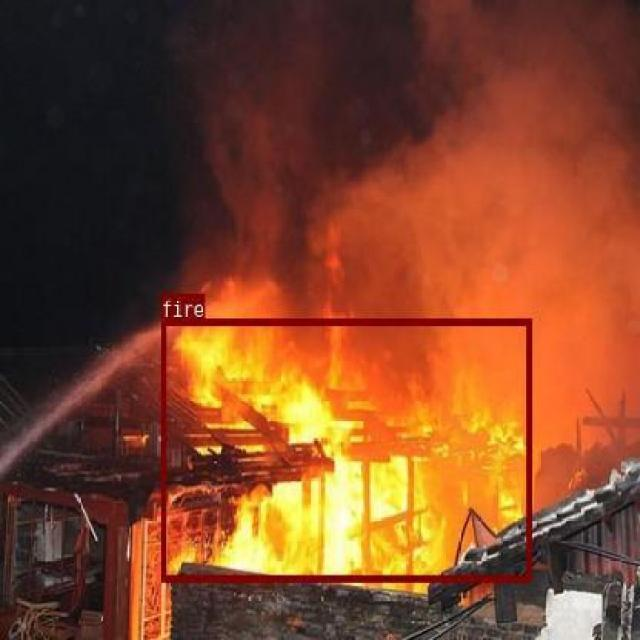Fire: (159, 318, 532, 580)
Smoke: (222, 51, 634, 308), (548, 331, 626, 394)
